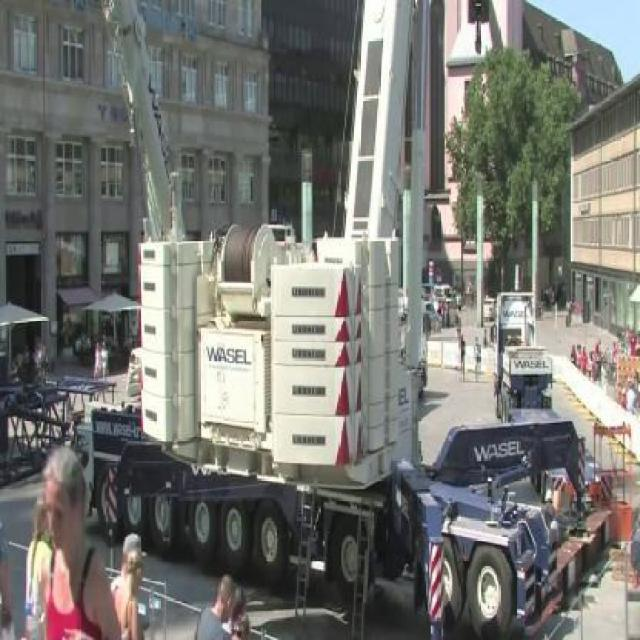Mobile Crane: (116, 0, 562, 625)
